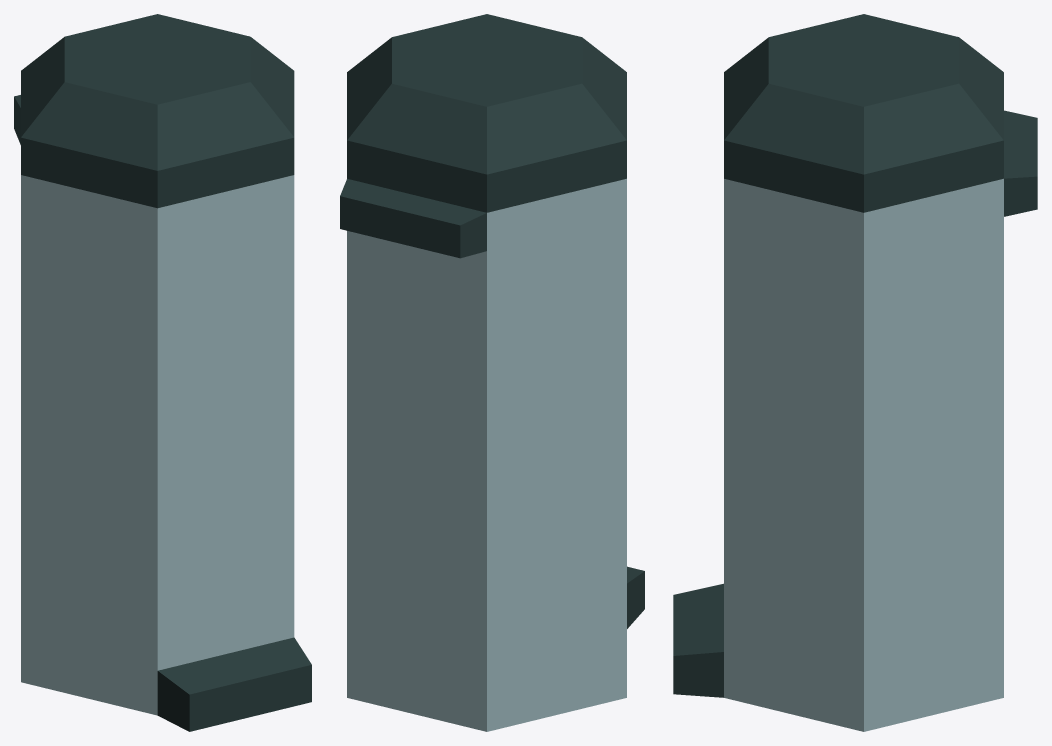
The model's file is trashcan.glb.
3 views of the same model, side by side, from view 1: azimuth 30°, elevation 25°; view 2: azimuth 150°, elevation 25°; view 3: azimuth 270°, elevation 25° (orthographic). The views are drawn at different scales.
Parts seen in each view (by area): view 1: trashcan(Clone); view 2: trashcan(Clone); view 3: trashcan(Clone).
Part boxes in pixels (x1=…): trashcan(Clone): x1=14, y1=14, x2=311, y2=731; trashcan(Clone): x1=340, y1=14, x2=644, y2=731; trashcan(Clone): x1=673, y1=14, x2=1037, y2=731.
Bounding box in the file's own units: 0.2077 × 0.4279 × 0.2341.
2 materials, 2 textured.
